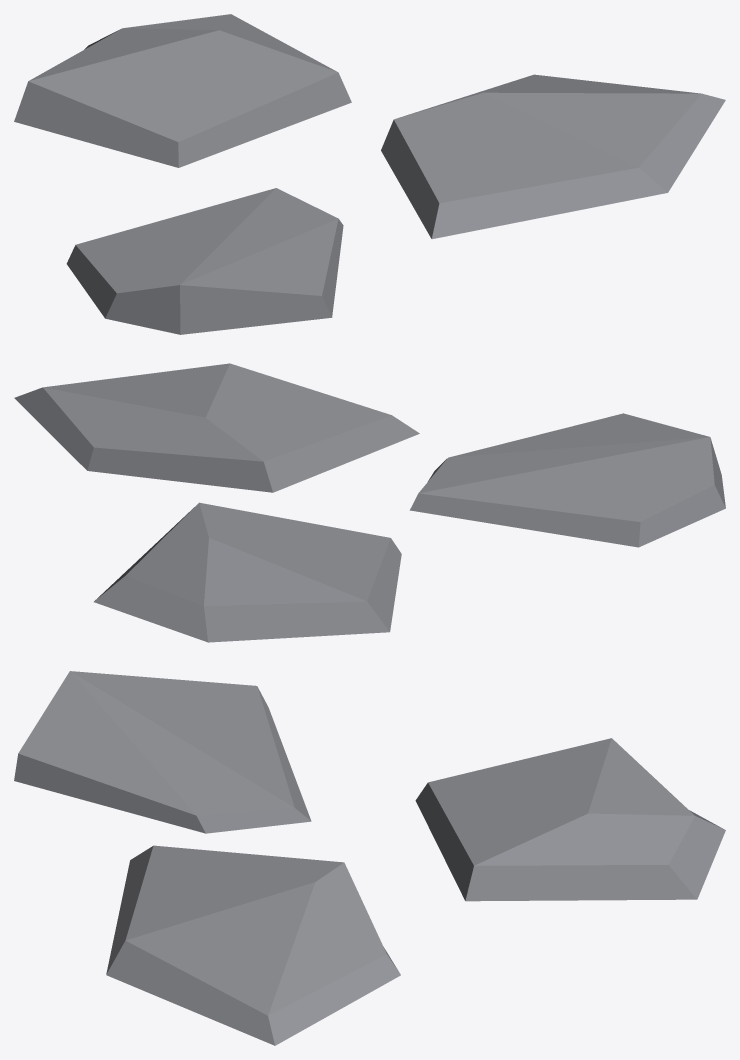
The model's file is stone_4.fbx.
3 renders of one model, top to bottom at view 1: azimuth 30°, elevation 25°; view 2: azimuth 150°, elevation 25°; view 3: azimuth 270°, elevation 25°, orthographic. The views are drawn at different scales.
Parts seen in each view (by area): view 1: stone_4; view 2: stone_4; view 3: stone_4.
Part boxes in pixels (bbox=[...]): stone_4: bbox=[14, 14, 725, 334]; stone_4: bbox=[14, 363, 725, 642]; stone_4: bbox=[14, 671, 725, 1045].
Bounding box in the file's own units: 181 × 11.94 × 155.
